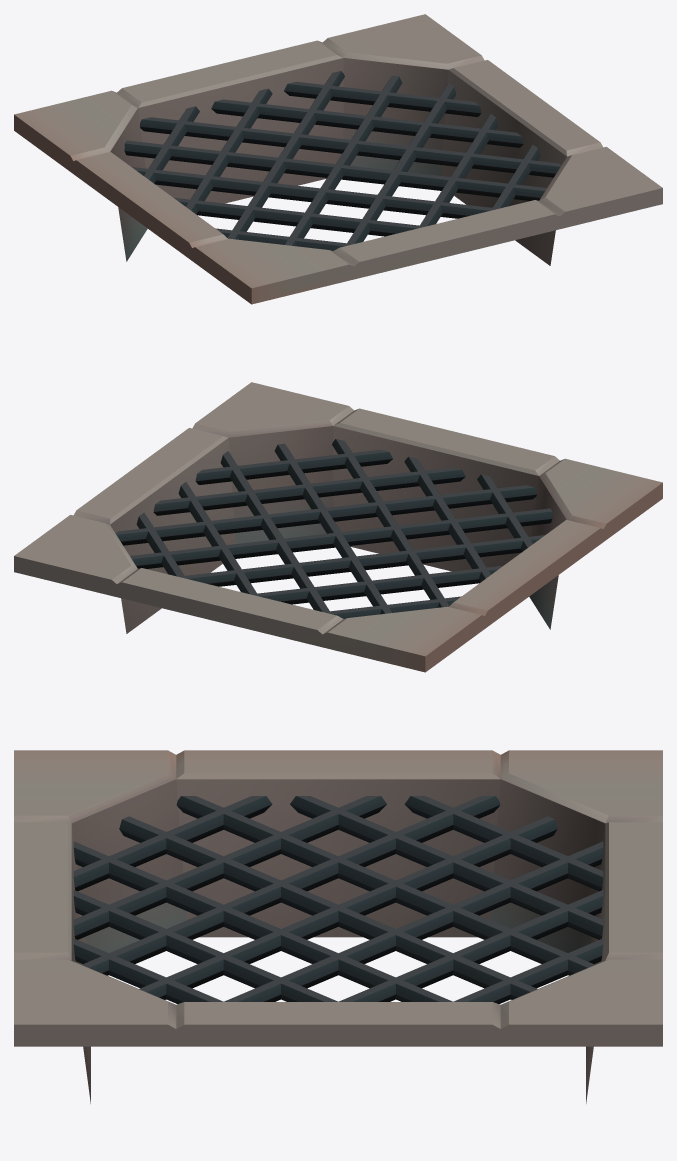
File: kay-grade-aberta.gltf
The picture shows the model from 3 angles, top to bottom: view 1: azimuth 30°, elevation 25°; view 2: azimuth 150°, elevation 25°; view 3: azimuth 270°, elevation 25°; orthographic projection. The views are drawn at different scales.
Visible parts, largest first — view 1: floor_tile_big_grate_open; view 2: floor_tile_big_grate_open; view 3: floor_tile_big_grate_open.
Part boxes in pixels (x1,y1,x2,y2): floor_tile_big_grate_open: (14, 14, 662, 304); floor_tile_big_grate_open: (14, 382, 662, 672); floor_tile_big_grate_open: (14, 750, 662, 1103).
Size of the model in its own units: 2.6 by 0.6825 by 2.6.
1 material, 1 textured.
